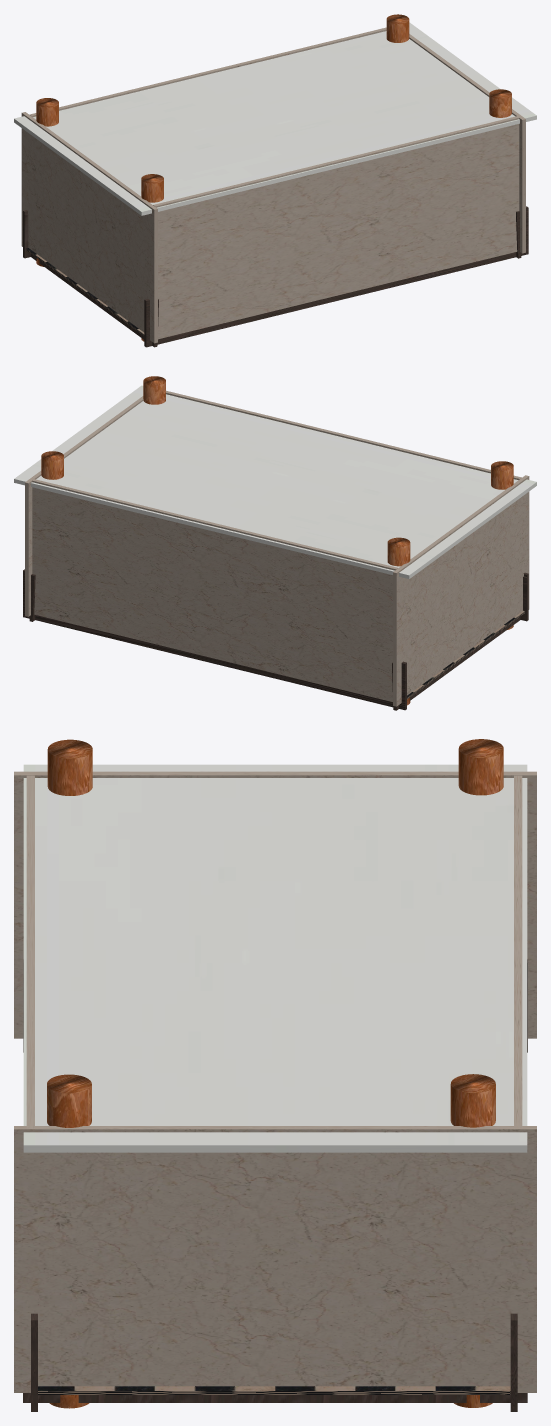
File: gallery2.glb
The picture shows the model from 3 angles, top to bottom: view 1: azimuth 30°, elevation 25°; view 2: azimuth 150°, elevation 25°; view 3: azimuth 270°, elevation 25°; orthographic projection. The views are drawn at different scales.
Visible parts, largest first — view 1: Cube, Cube.008, Cube.009, Cube.004, Cube.011, Cube.007, Cylinder, Cylinder.003, Cylinder.001, Cylinder.002, Cube.001, Cube.005; view 2: Cube.007, Cube.008, Cube.009, Cube.006, Cube.011, Cube, Cylinder, Cylinder.001, Cylinder.003, Cylinder.002, Cube.001, Cube.005; view 3: Cube.008, Cube.011, Cube.009, Cube.001, Cube.010, Cube, Cube.007, Cylinder.002, Cylinder.003, Cylinder, Cylinder.001, Cube.006.
Part boxes in pixels (x1,y1,x2,y2): Cube: (153, 116, 521, 339); Cube.008: (14, 22, 536, 215); Cube.009: (21, 112, 157, 343); Cube.004: (144, 206, 528, 347); Cube.011: (409, 34, 525, 253); Cube.007: (29, 27, 386, 116); Cylinder: (36, 98, 58, 266); Cylinder.003: (386, 14, 409, 42); Cylinder.001: (141, 174, 163, 341); Cylinder.002: (489, 89, 511, 117); Cube.001: (26, 248, 144, 335); Cube.005: (31, 254, 158, 347); Cube.007: (30, 478, 397, 701); Cube.008: (14, 385, 536, 578); Cube.009: (393, 475, 529, 706); Cube.006: (23, 569, 406, 710); Cube.011: (25, 396, 143, 616); Cube: (166, 390, 521, 479); Cylinder: (387, 537, 410, 705); Cylinder.001: (491, 461, 513, 629); Cylinder.003: (41, 451, 63, 479); Cylinder.002: (143, 376, 165, 404); Cube.001: (407, 611, 524, 699); Cube.005: (392, 616, 520, 710); Cube.008: (23, 764, 527, 1152); Cube.011: (14, 1126, 536, 1392); Cube.009: (14, 771, 536, 1038); Cube.001: (38, 1386, 510, 1394); Cube.010: (23, 1393, 527, 1402); Cube: (26, 775, 34, 1128); Cube.007: (514, 775, 522, 1128); Cylinder.002: (47, 1074, 91, 1408); Cylinder.003: (450, 1074, 495, 1407); Cylinder: (458, 739, 503, 795); Cylinder.001: (47, 739, 92, 795); Cube.006: (510, 1313, 517, 1411).
Bounding box in the file's own units: 30.95 × 11.95 × 17.98.
16 materials, 15 textured.
